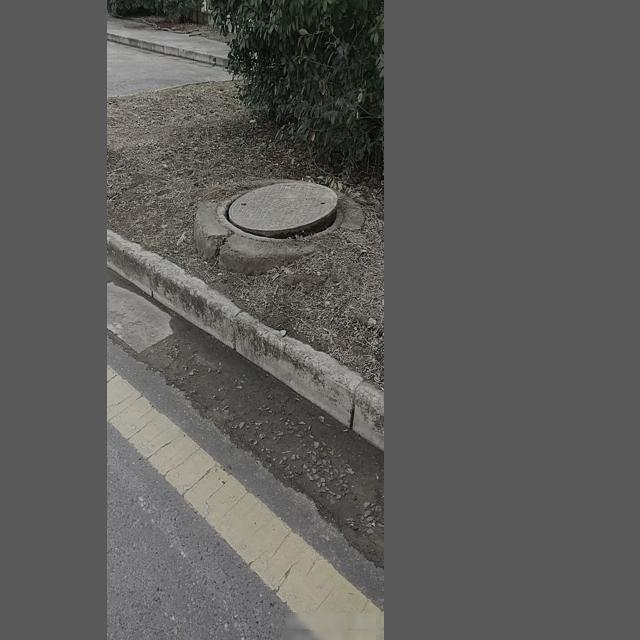uncovered: (219, 179, 348, 244)
